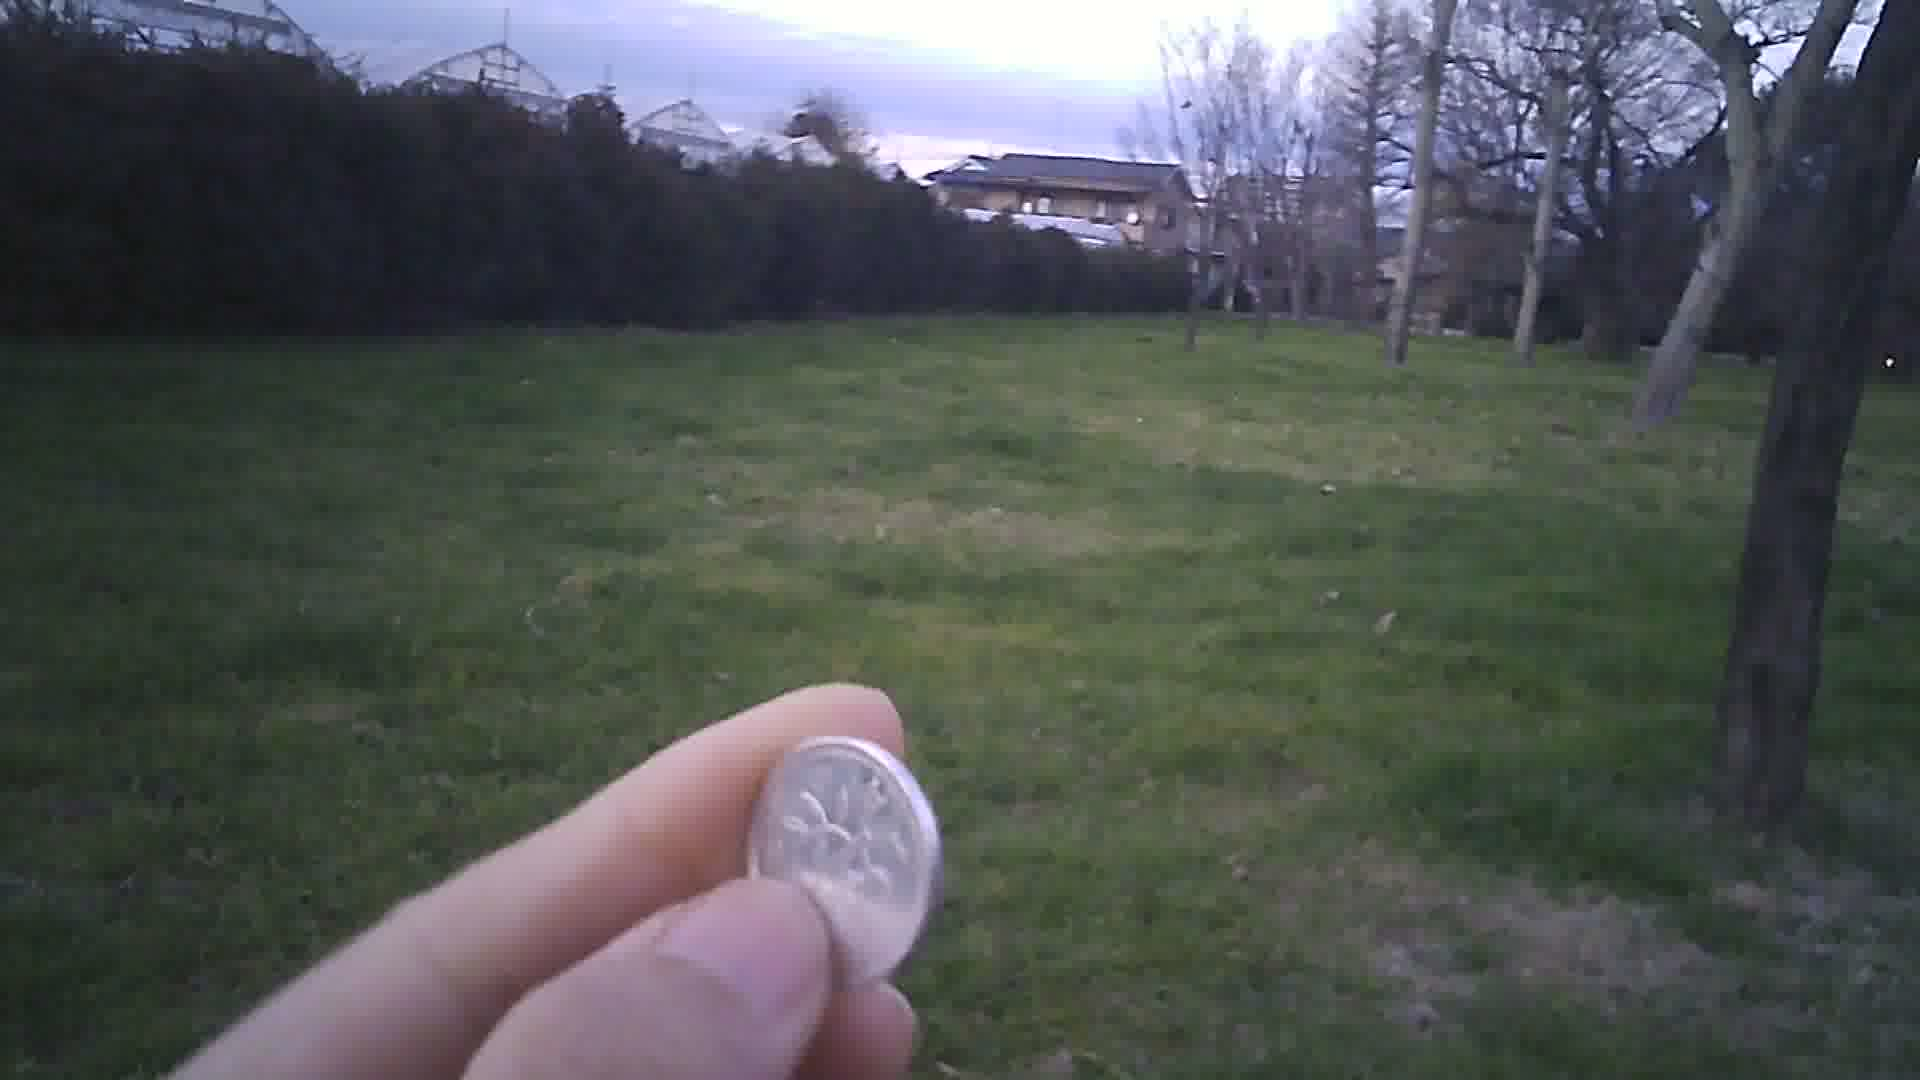1 Yen: (727, 735, 938, 973)
